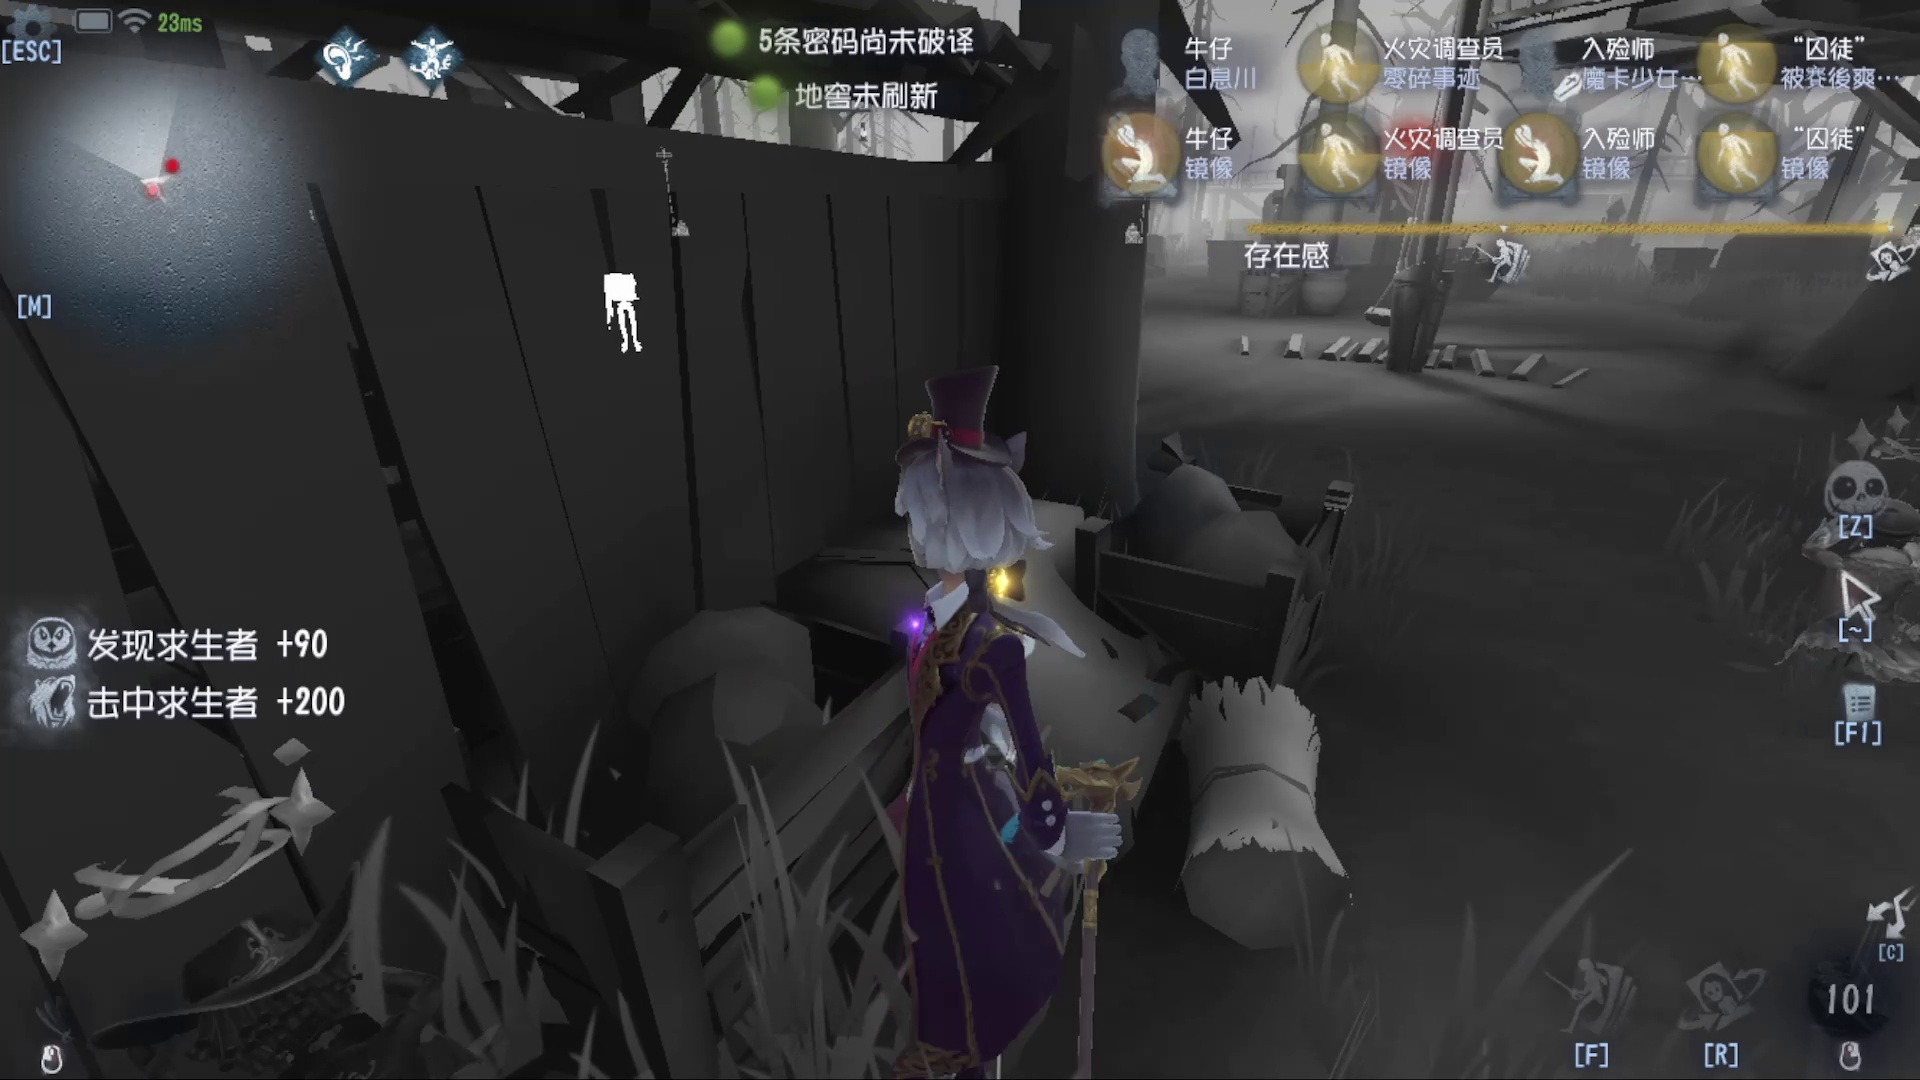密码机: (646, 120, 711, 240)
